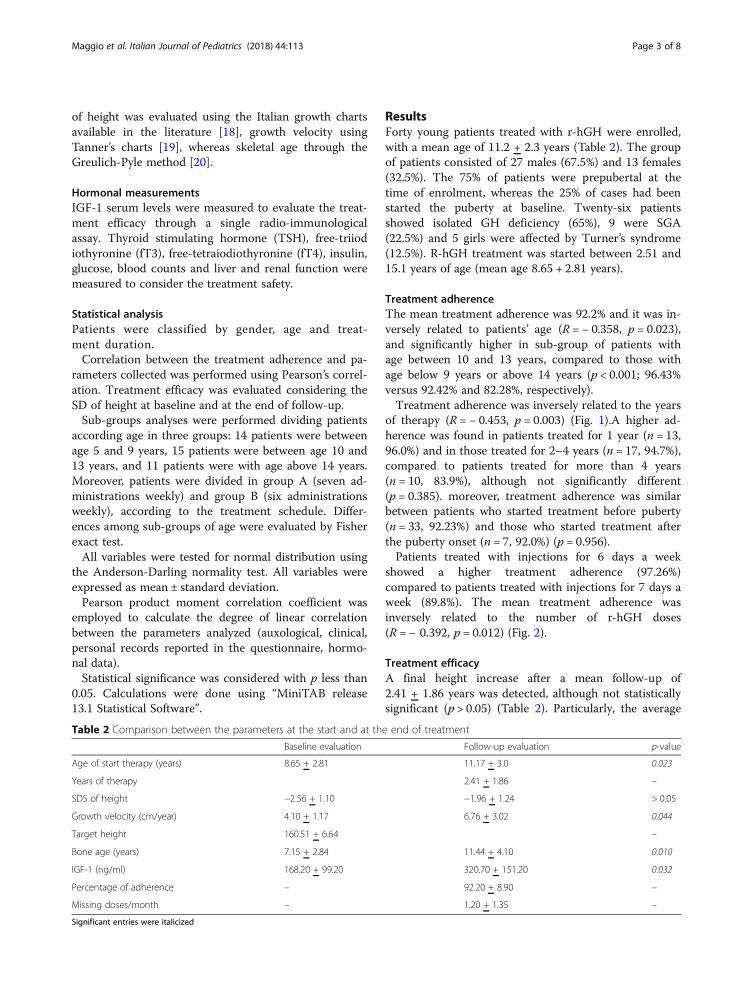table: (71, 741, 680, 910)
